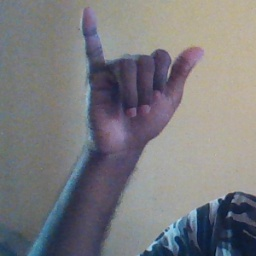J: (80, 7, 206, 146)
